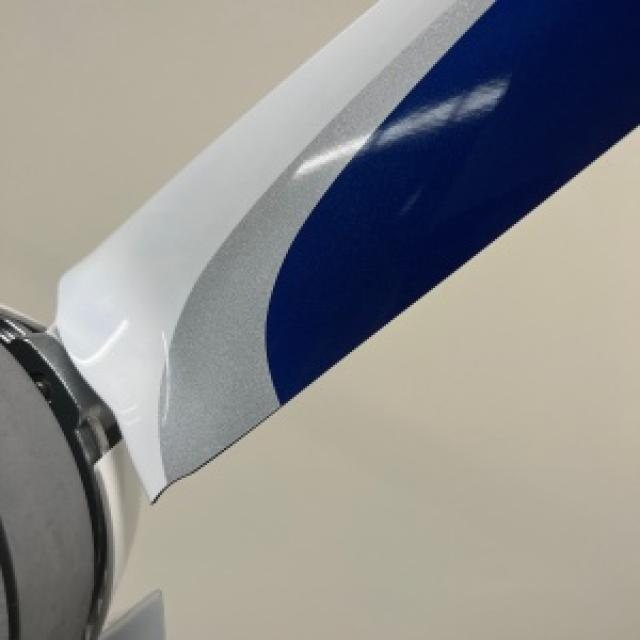healthy: (109, 128, 638, 638)
